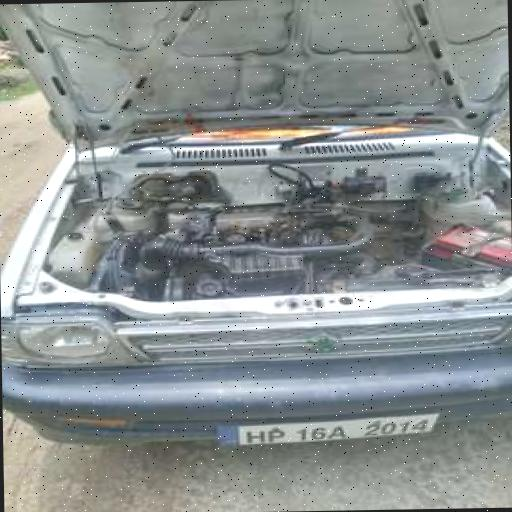license_plate`: (214, 412, 436, 446)
